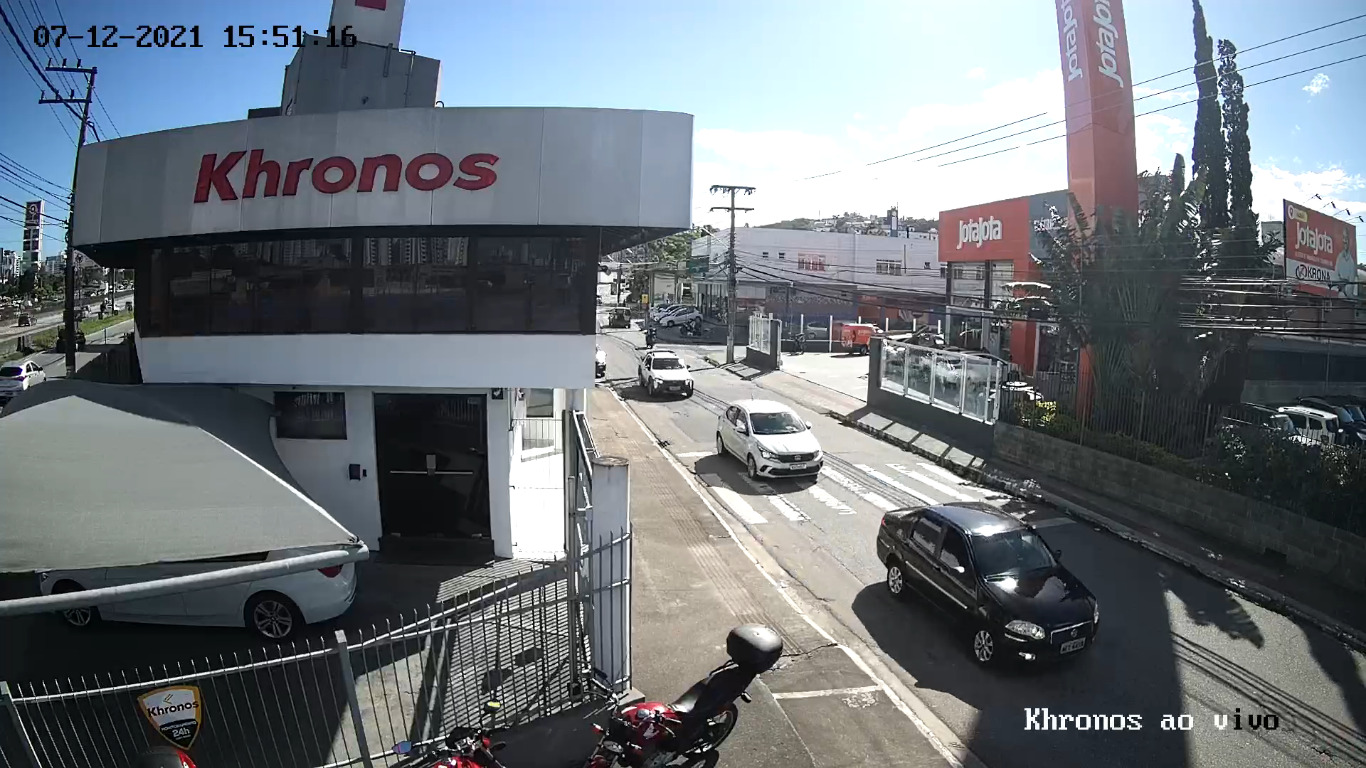car: (877, 498, 1098, 670), (716, 397, 823, 481)
